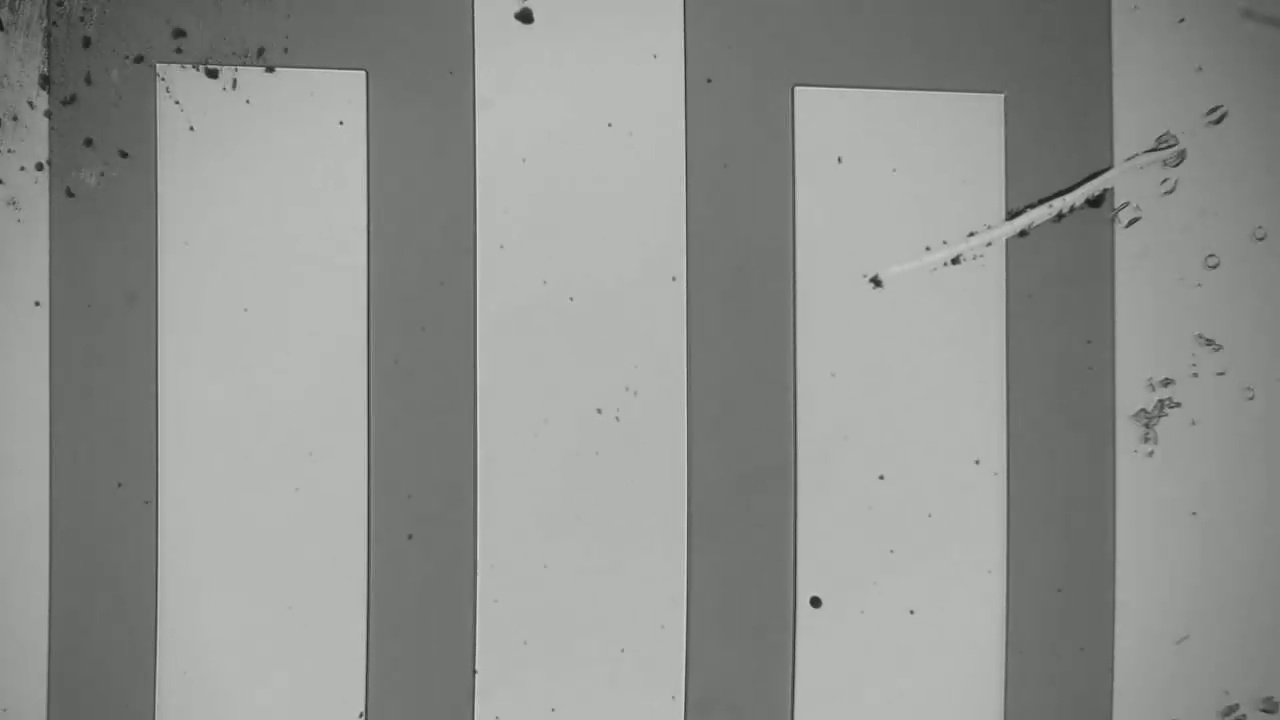Short_circuit: (979, 142, 1144, 268)
